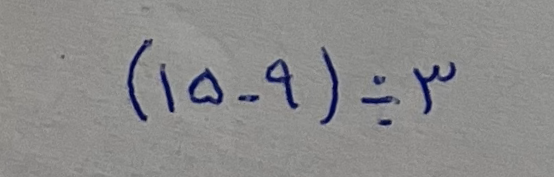character: (125, 36, 154, 124), (359, 75, 402, 127), (415, 62, 455, 115), (266, 56, 299, 109), (319, 43, 340, 125), (188, 62, 226, 106), (156, 62, 175, 115), (235, 90, 261, 106)
